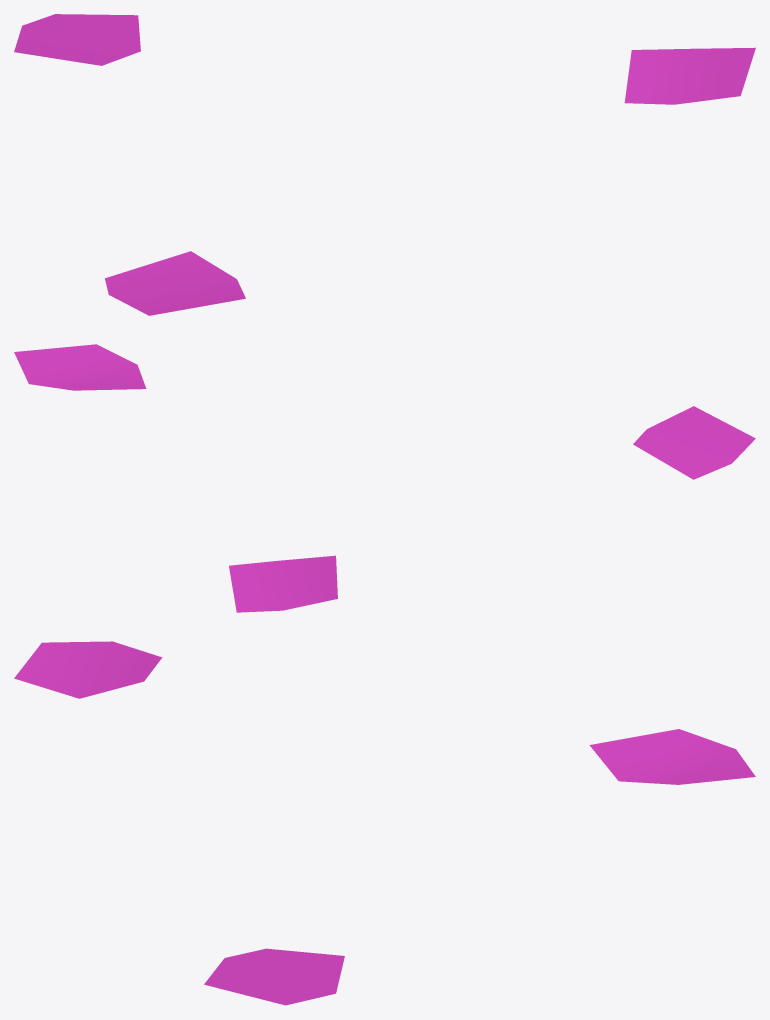
The model's file is kirschblueten02.FBX.
3 renders of one model, top to bottom at view 1: azimuth 30°, elevation 25°; view 2: azimuth 150°, elevation 25°; view 3: azimuth 270°, elevation 25°, orthographic. The views are drawn at different scales.
Visible parts, largest first — view 1: kitschblueten02; view 2: kitschblueten02; view 3: kitschblueten02.
Boxes of the visible parts, x1,y1,x2,y2 form: kitschblueten02: (14,14,755,315); kitschblueten02: (14,344,755,612); kitschblueten02: (14,641,755,1005).
Bounding box in the file's own units: 16.28 × 0.3151 × 13.68.
